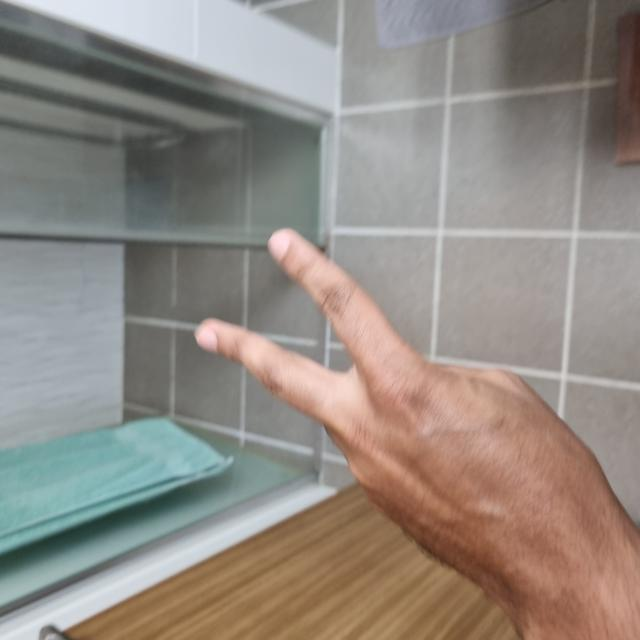Scissors: (23, 196, 411, 631)
